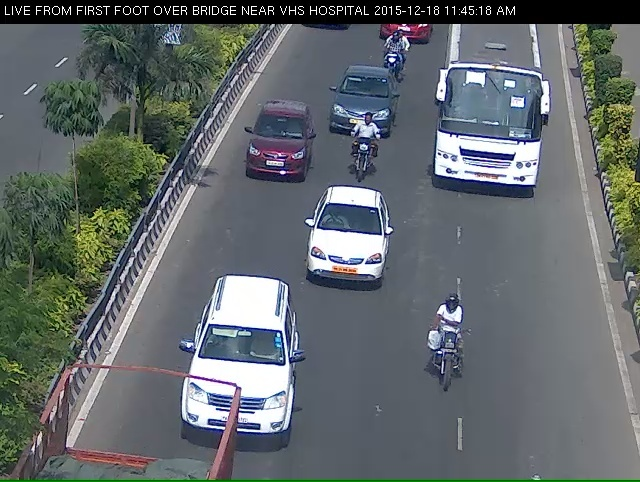Bus: (439, 21, 552, 209)
Car: (173, 292, 300, 469), (307, 202, 397, 307), (239, 103, 312, 198), (324, 67, 395, 145)
Person: (422, 307, 478, 413), (345, 122, 380, 184), (376, 38, 409, 83)
